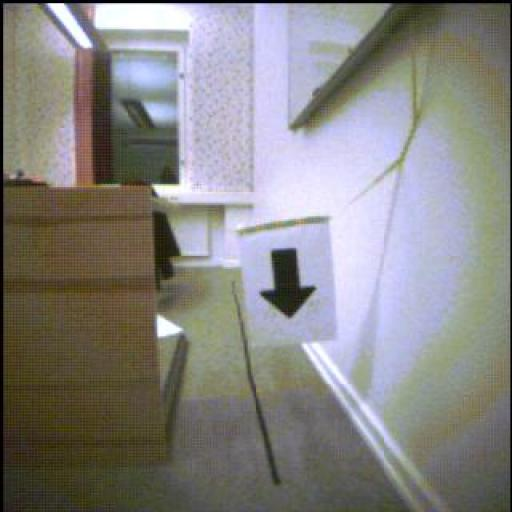arrow: (262, 249, 316, 318)
